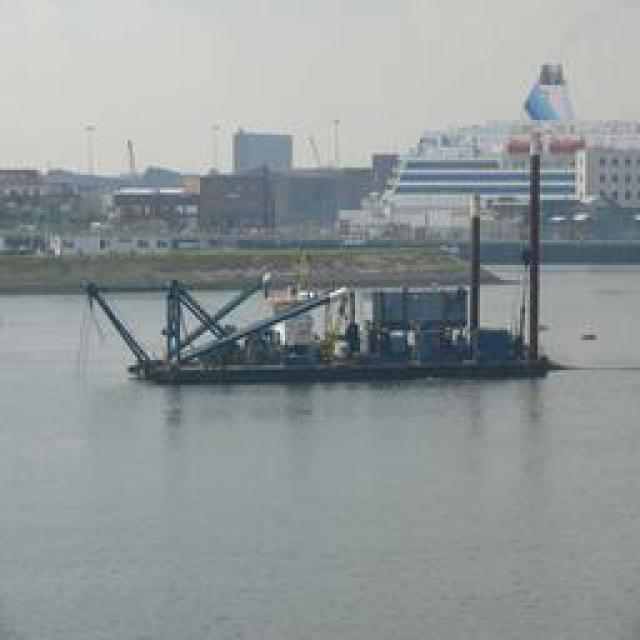Ship: (110, 279, 573, 384)
